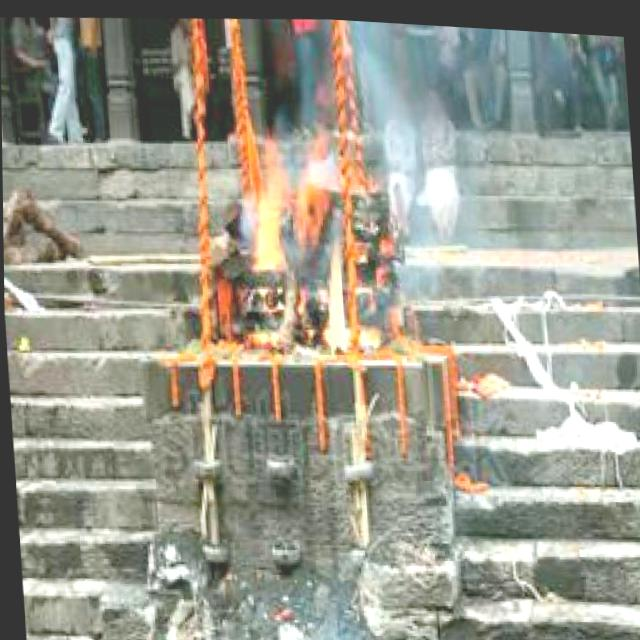Fire: (239, 137, 358, 357)
